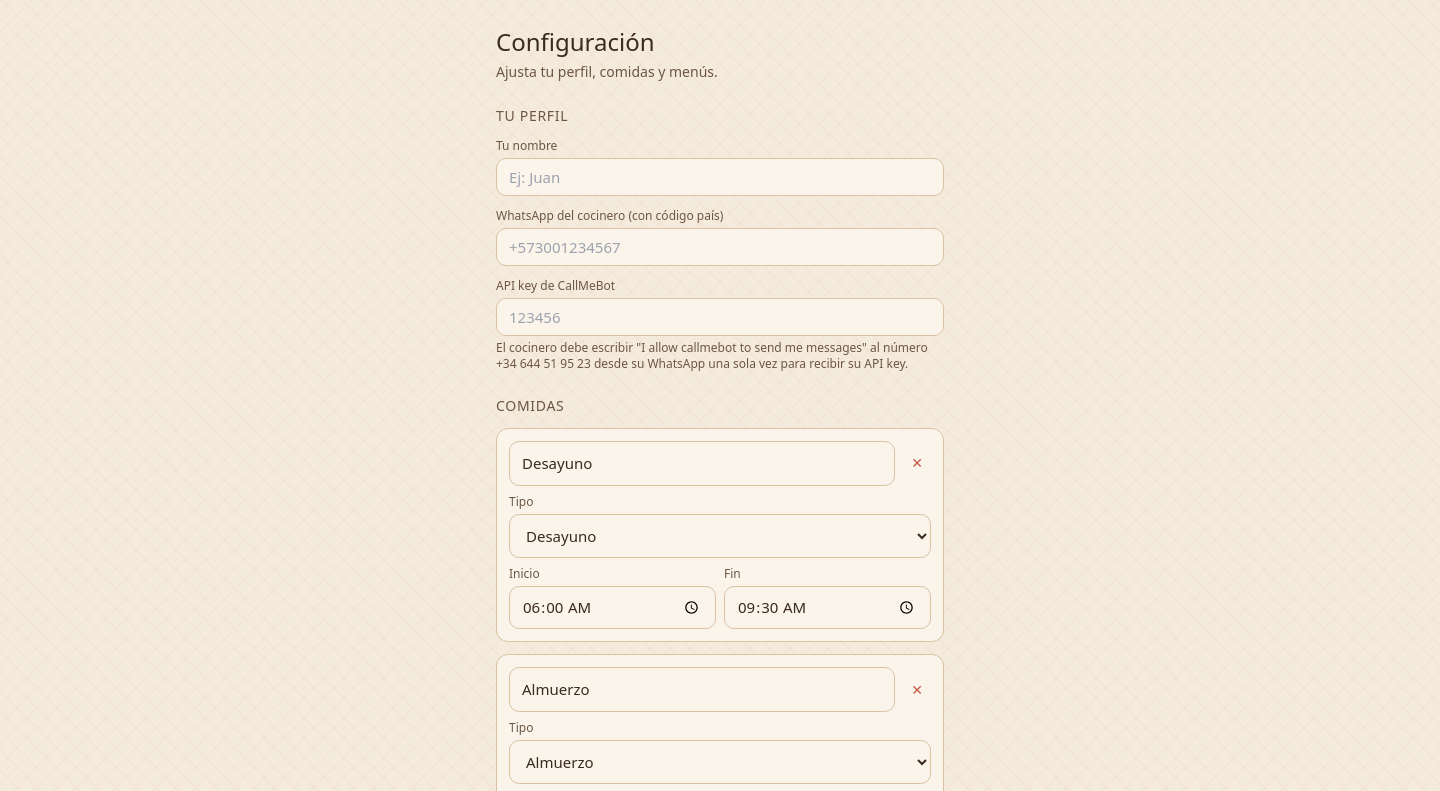
Test case: Configuracion — validaciones › exige número con formato internacional
Type "Juan" into the field with placeholder "Ej: Juan" at coordinates (720, 177), box [496,158,944,196]
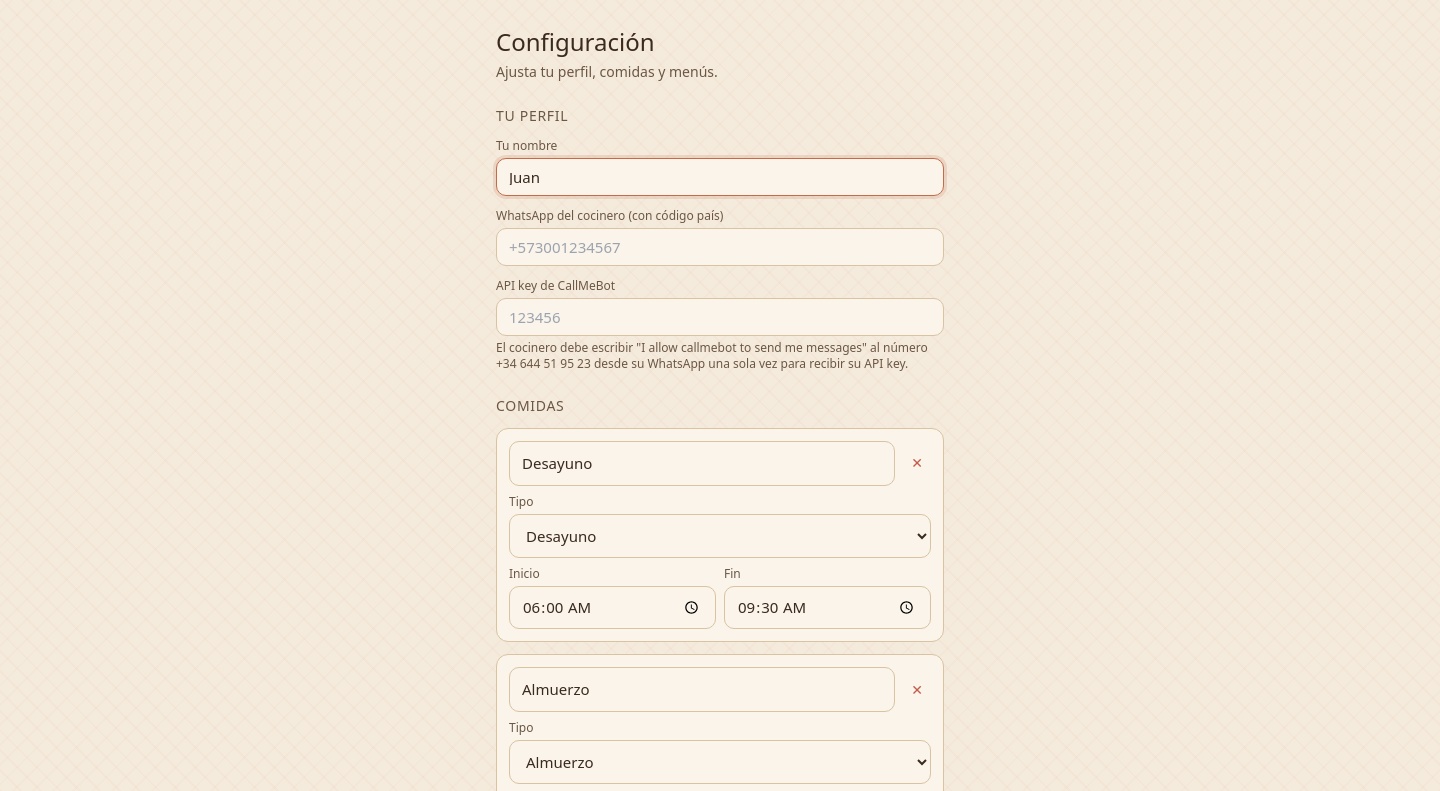
Type "123" into the field with placeholder "+573001234567" at coordinates (720, 247), box [496,228,944,266]
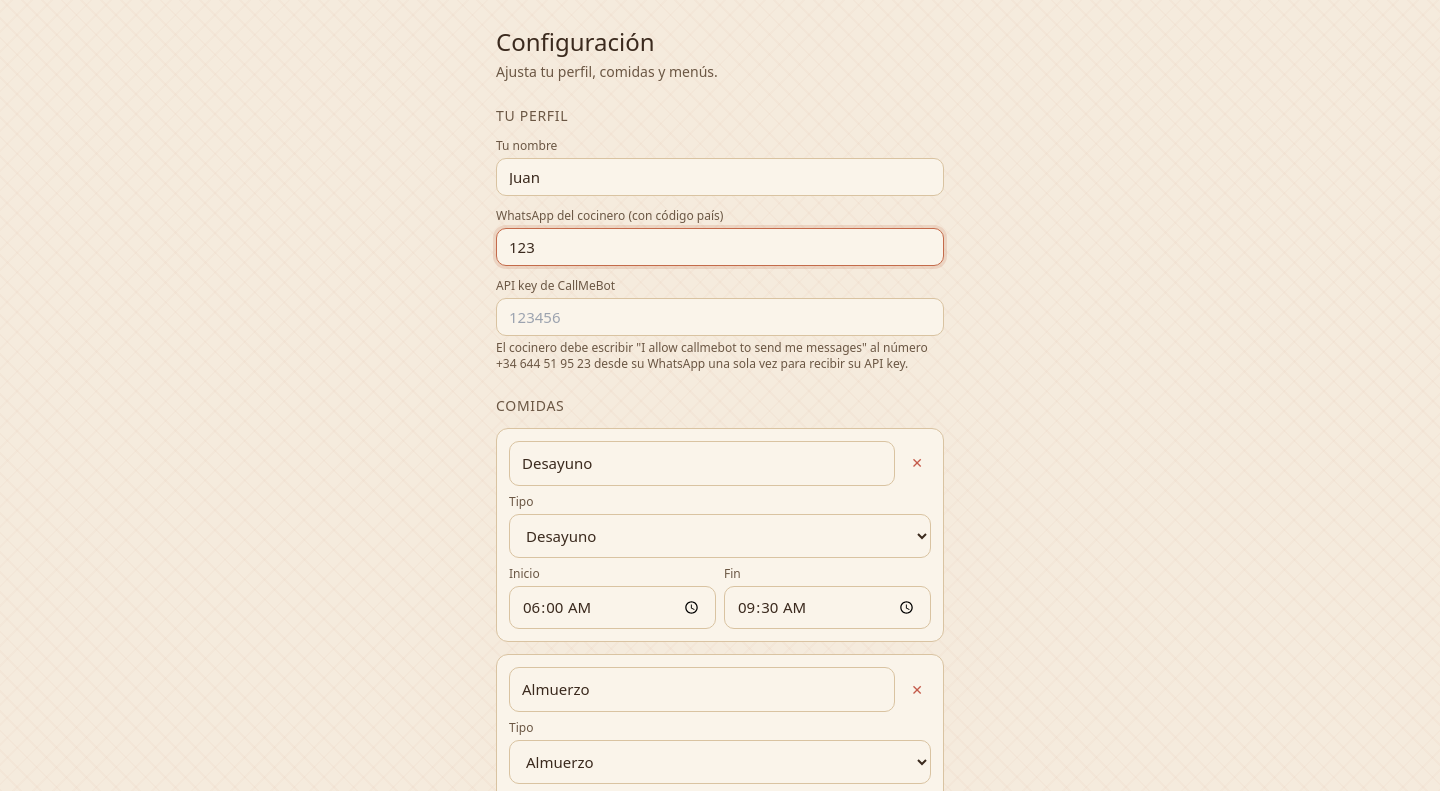
Type "k" into the field with placeholder "123456" at coordinates (720, 317), box [496,298,944,336]
(page scrolled)
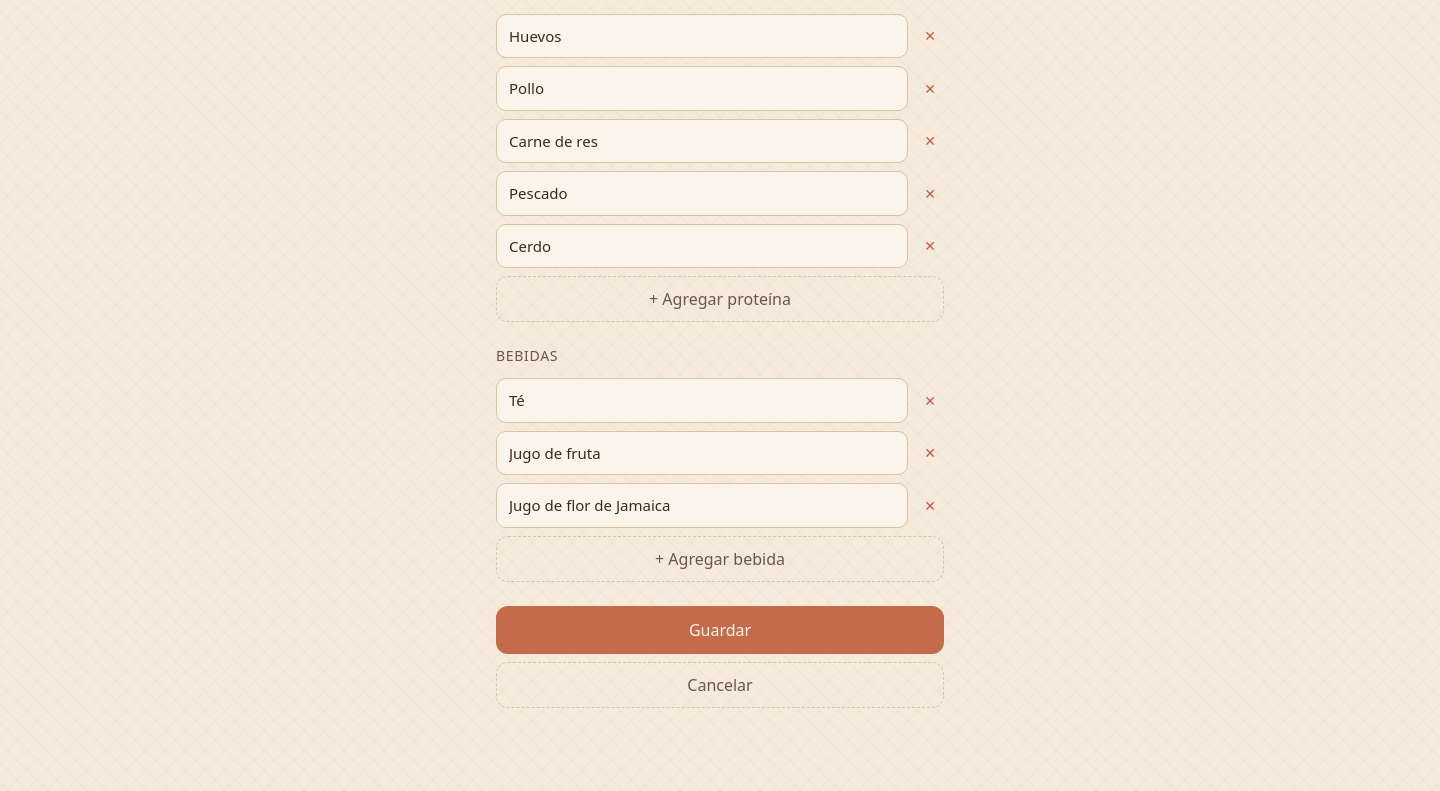
Click the button "Guardar" at coordinates (720, 630), box [496,606,944,654]
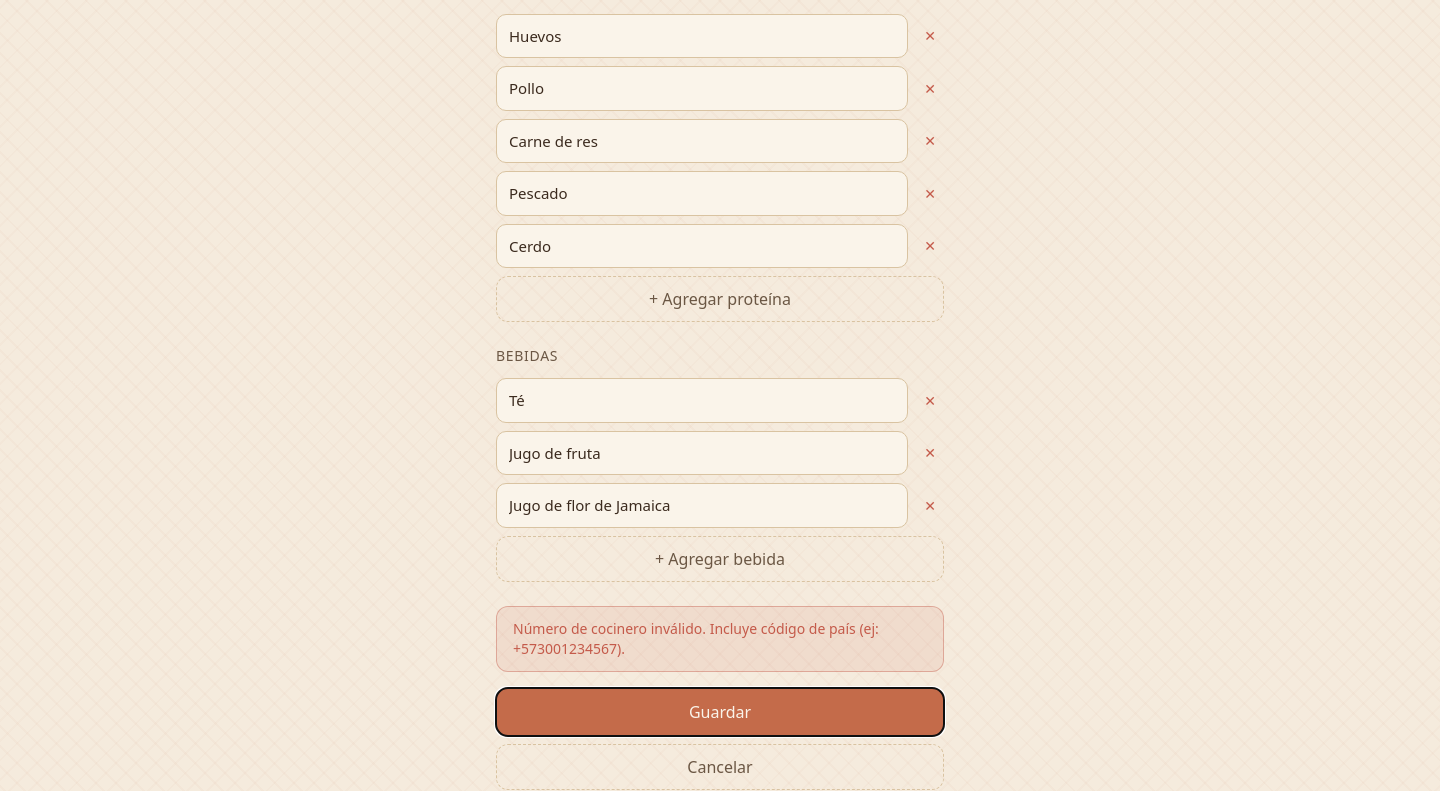
Now the text "Número de cocinero inválido" is shown, box [513,619,879,658]
